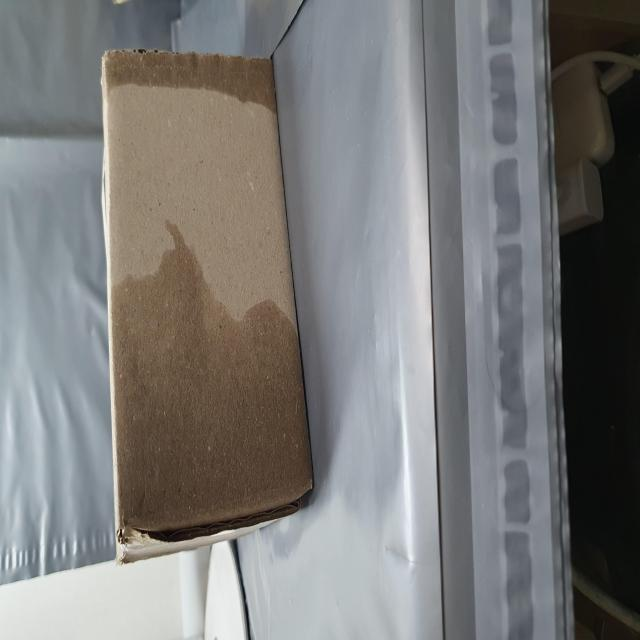wet: (59, 189, 237, 553), (286, 187, 333, 478)
